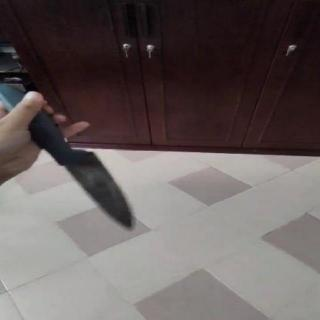knife: (47, 151, 145, 227)
